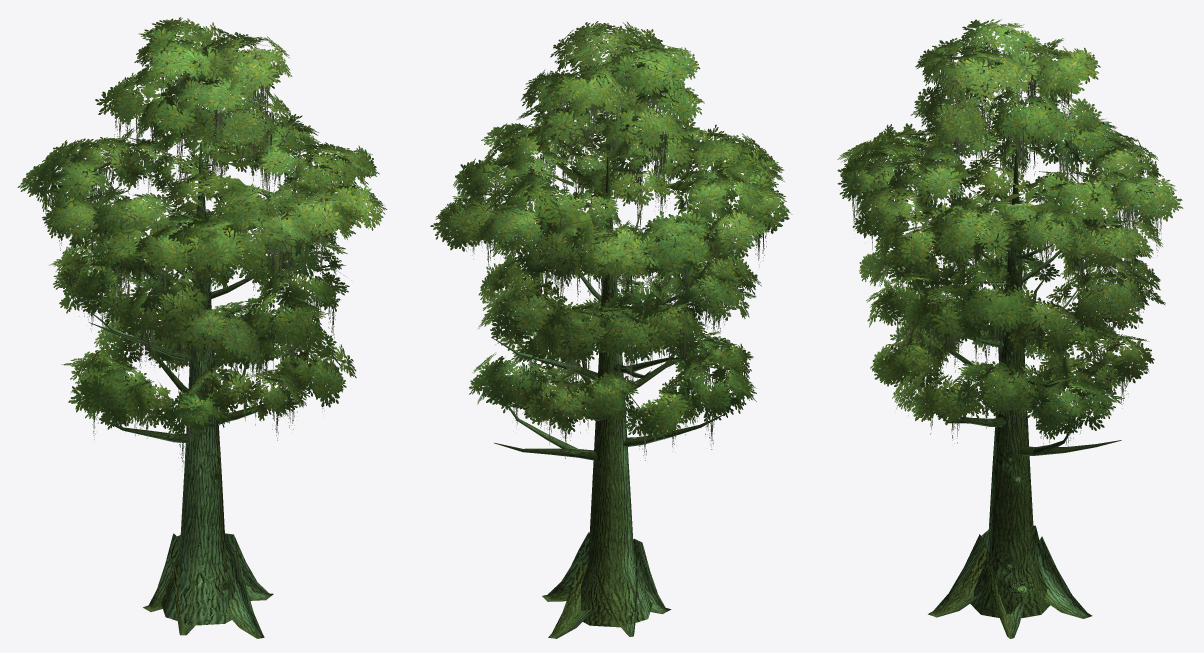
Rendered from mm6_deco_swptree1.glb.
3 renders of one model, left to right at view 1: azimuth 30°, elevation 25°; view 2: azimuth 150°, elevation 25°; view 3: azimuth 270°, elevation 25°, orthographic. The views are drawn at different scales.
Parts seen in each view (by area): view 1: Tree; view 2: Tree; view 3: Tree.
Part boxes in pixels (x1=…): Tree: x1=17, y1=17, x2=386, y2=638; Tree: x1=430, y1=21, x2=792, y2=638; Tree: x1=837, y1=19, x2=1183, y2=638.
Bounding box in the file's own units: 2.5 × 4.42 × 2.53.
4 materials, 4 textured.
